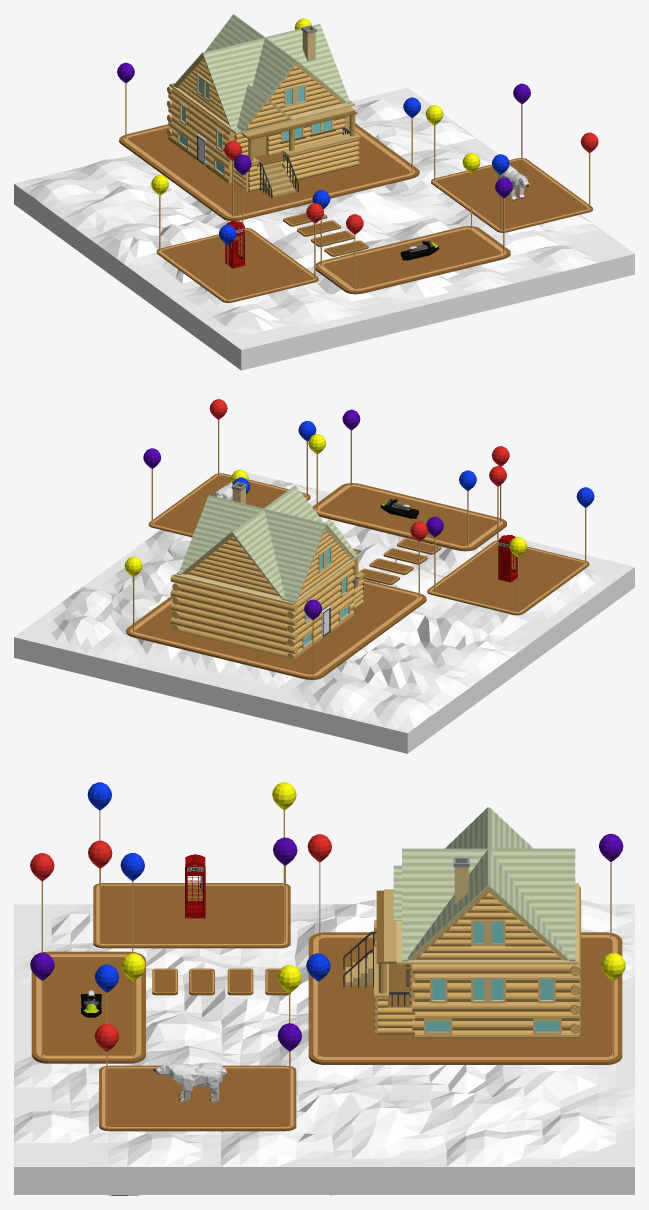
3 renders of one model, top to bottom at view 1: azimuth 30°, elevation 25°; view 2: azimuth 150°, elevation 25°; view 3: azimuth 270°, elevation 25°, orthographic. The views are drawn at different scales.
Parts seen in each view (by area): view 1: Cube.013, Cube.1516, OBJRANDOM_PHONEBOOTH, ANIMAL_OSO_POLAR; view 2: Cube.013, Cube.1516, OBJRANDOM_PHONEBOOTH; view 3: Cube.013, Cube.1516, ANIMAL_OSO_POLAR, OBJRANDOM_PHONEBOOTH.
Boxes of the visible parts, x1,y1,x2,y2 form: Cube.013: (14, 18, 634, 370); Cube.1516: (167, 14, 360, 198); OBJRANDOM_PHONEBOOTH: (225, 221, 245, 268); ANIMAL_OSO_POLAR: (497, 165, 529, 200); Cube.013: (14, 399, 634, 753); Cube.1516: (170, 482, 364, 659); OBJRANDOM_PHONEBOOTH: (498, 535, 517, 582); Cube.013: (14, 782, 634, 1194); Cube.1516: (343, 807, 580, 1038); ANIMAL_OSO_POLAR: (153, 1060, 226, 1101); OBJRANDOM_PHONEBOOTH: (185, 854, 205, 918).
Bounding box in the file's own units: 4000 × 1661 × 4000.
38 materials, 2 textured.
